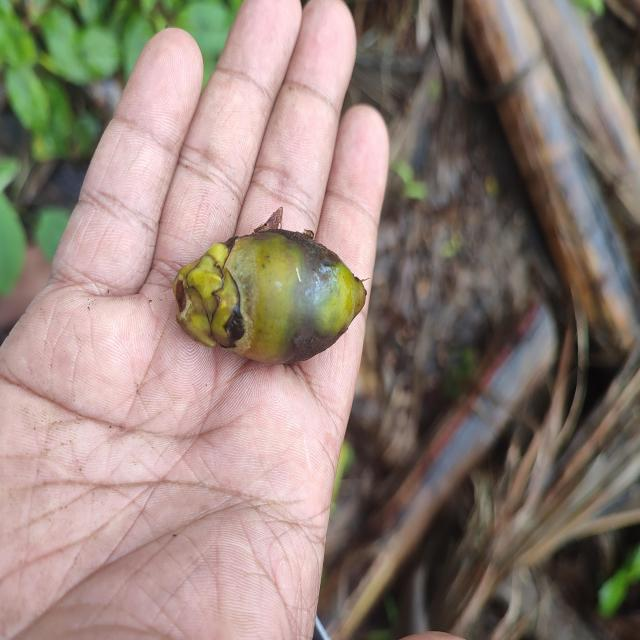damaged: (172, 225, 367, 368)
